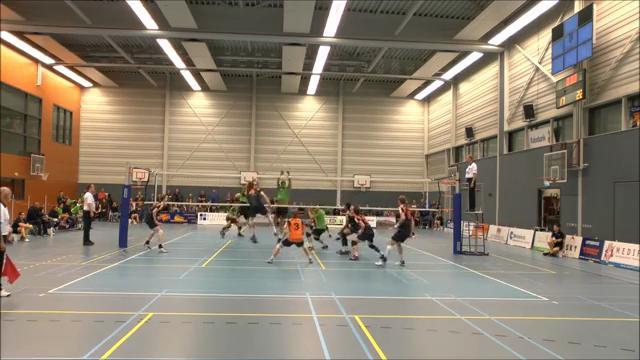Attack: (236, 176, 280, 246)
Block: (269, 166, 292, 240)
Player: (376, 195, 413, 265), (267, 209, 312, 263), (349, 206, 382, 260), (144, 195, 166, 252), (337, 203, 359, 254), (306, 207, 330, 249), (220, 206, 243, 237), (237, 185, 249, 223)
